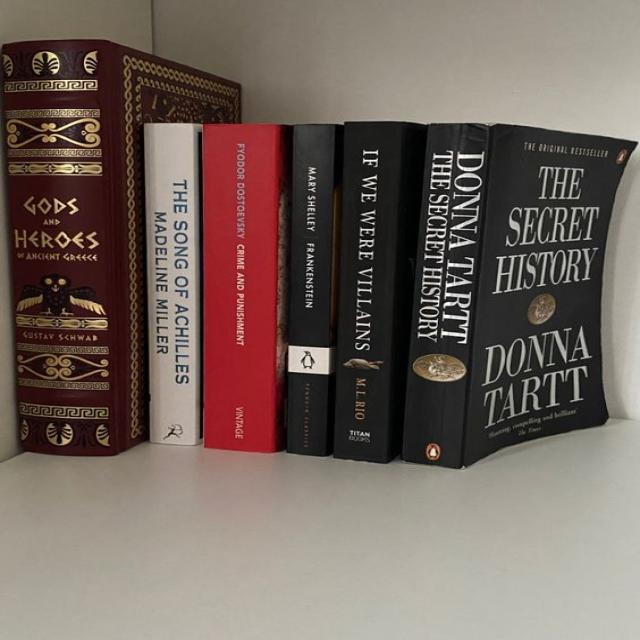book: (6, 43, 133, 448), (406, 125, 498, 473), (332, 122, 424, 462), (203, 124, 286, 453), (286, 125, 340, 455), (146, 123, 201, 445)
